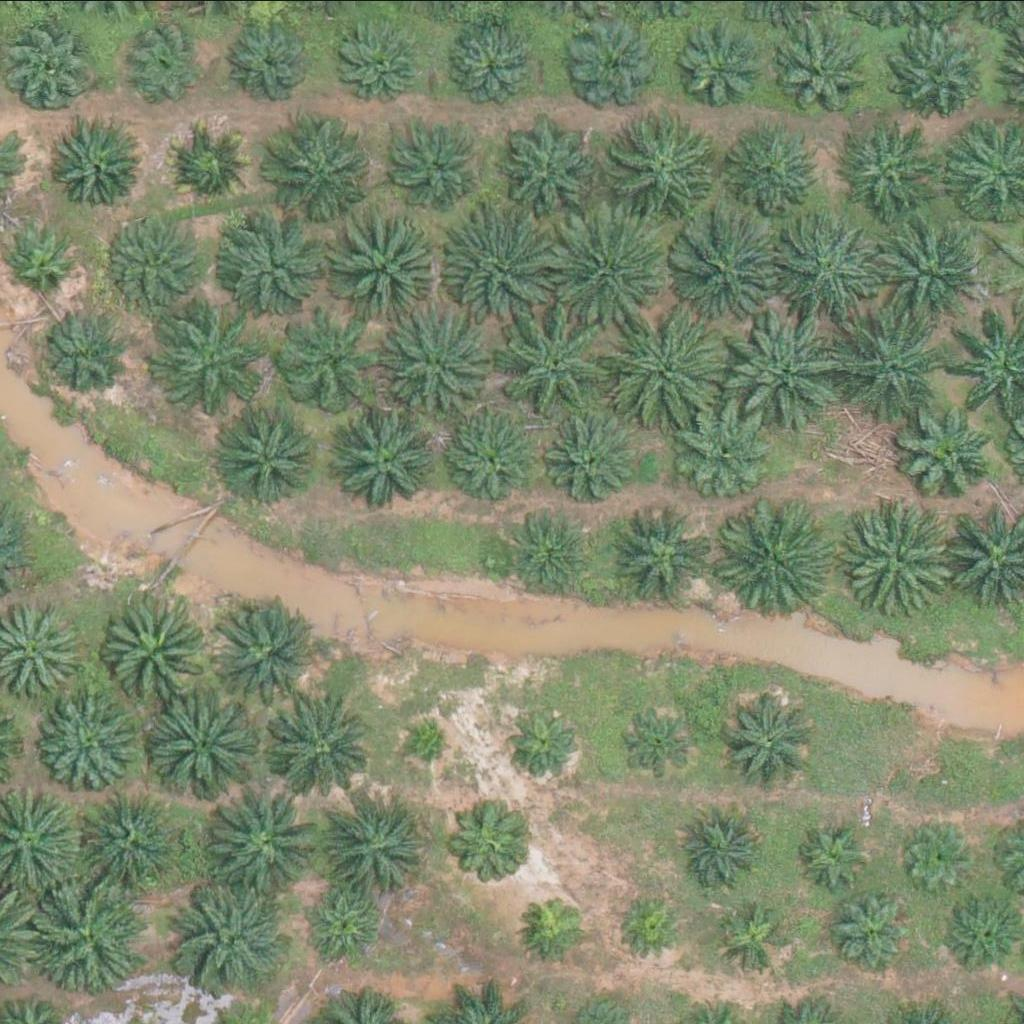Kelapa_Sawit: (714, 500, 828, 613), (731, 316, 844, 429), (838, 504, 951, 617), (552, 207, 665, 320), (441, 207, 554, 320), (323, 208, 436, 321), (208, 207, 321, 320), (383, 310, 496, 423), (612, 308, 725, 421), (148, 691, 261, 804), (265, 694, 378, 807), (29, 876, 142, 989), (177, 879, 290, 992), (769, 212, 883, 324), (882, 211, 996, 323), (666, 204, 780, 316), (207, 788, 321, 900), (829, 306, 942, 418), (267, 112, 380, 224), (617, 110, 730, 222), (497, 304, 610, 416), (100, 596, 213, 708), (208, 599, 321, 711), (317, 783, 430, 895), (890, 26, 991, 126), (720, 692, 821, 792), (565, 13, 666, 113), (505, 121, 606, 221), (165, 319, 266, 419), (277, 313, 378, 413), (431, 407, 532, 507), (339, 407, 440, 507), (213, 401, 314, 501), (611, 505, 712, 605), (39, 692, 140, 792), (848, 120, 948, 220), (897, 403, 997, 503), (444, 12, 544, 112), (100, 212, 200, 312), (674, 400, 774, 500), (533, 404, 633, 504), (77, 785, 177, 885), (826, 887, 915, 975), (614, 695, 703, 783), (777, 27, 865, 115), (731, 130, 819, 218), (303, 880, 391, 968), (674, 24, 762, 112), (121, 18, 209, 106), (233, 17, 321, 105), (338, 17, 426, 105), (41, 309, 129, 397), (440, 795, 528, 883), (679, 801, 767, 889), (4, 21, 92, 108), (50, 123, 138, 210), (496, 698, 584, 785), (168, 123, 256, 210), (389, 126, 477, 213), (499, 511, 587, 598), (906, 818, 982, 893), (7, 219, 83, 294), (517, 888, 592, 963), (717, 903, 792, 978), (801, 815, 876, 890), (613, 888, 688, 963), (411, 716, 461, 766)
